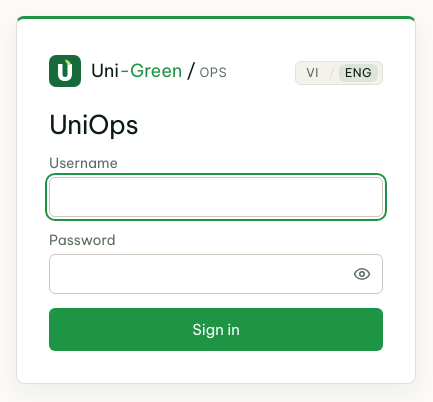
Test: Login › toggles password visibility when the eye button is clicked
The width and height of the screenshot is (433, 402).
What coordinates should you click on to do the following:
click the button named "Show password"
I would click on:
 (362, 274)
Its box is x1=347 y1=259 x2=377 y2=289.
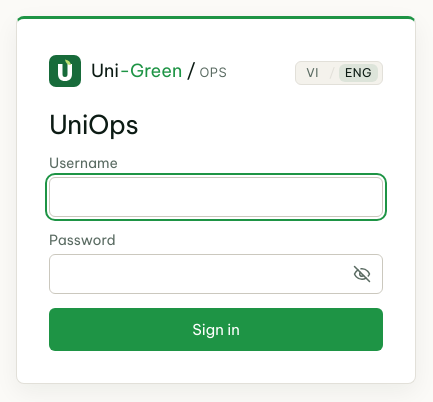
Check: the button named "Hide password" is shown
What coordinates should you click on to do the following:
click the button named "Hide password"
I would click on:
 (362, 274)
Its box is x1=347 y1=259 x2=377 y2=289.
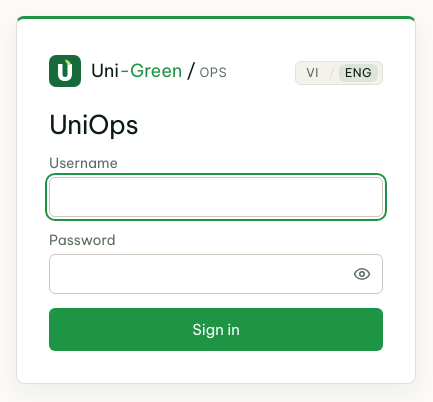
Check: the button named "Show password" is shown, box x1=347 y1=259 x2=377 y2=289
